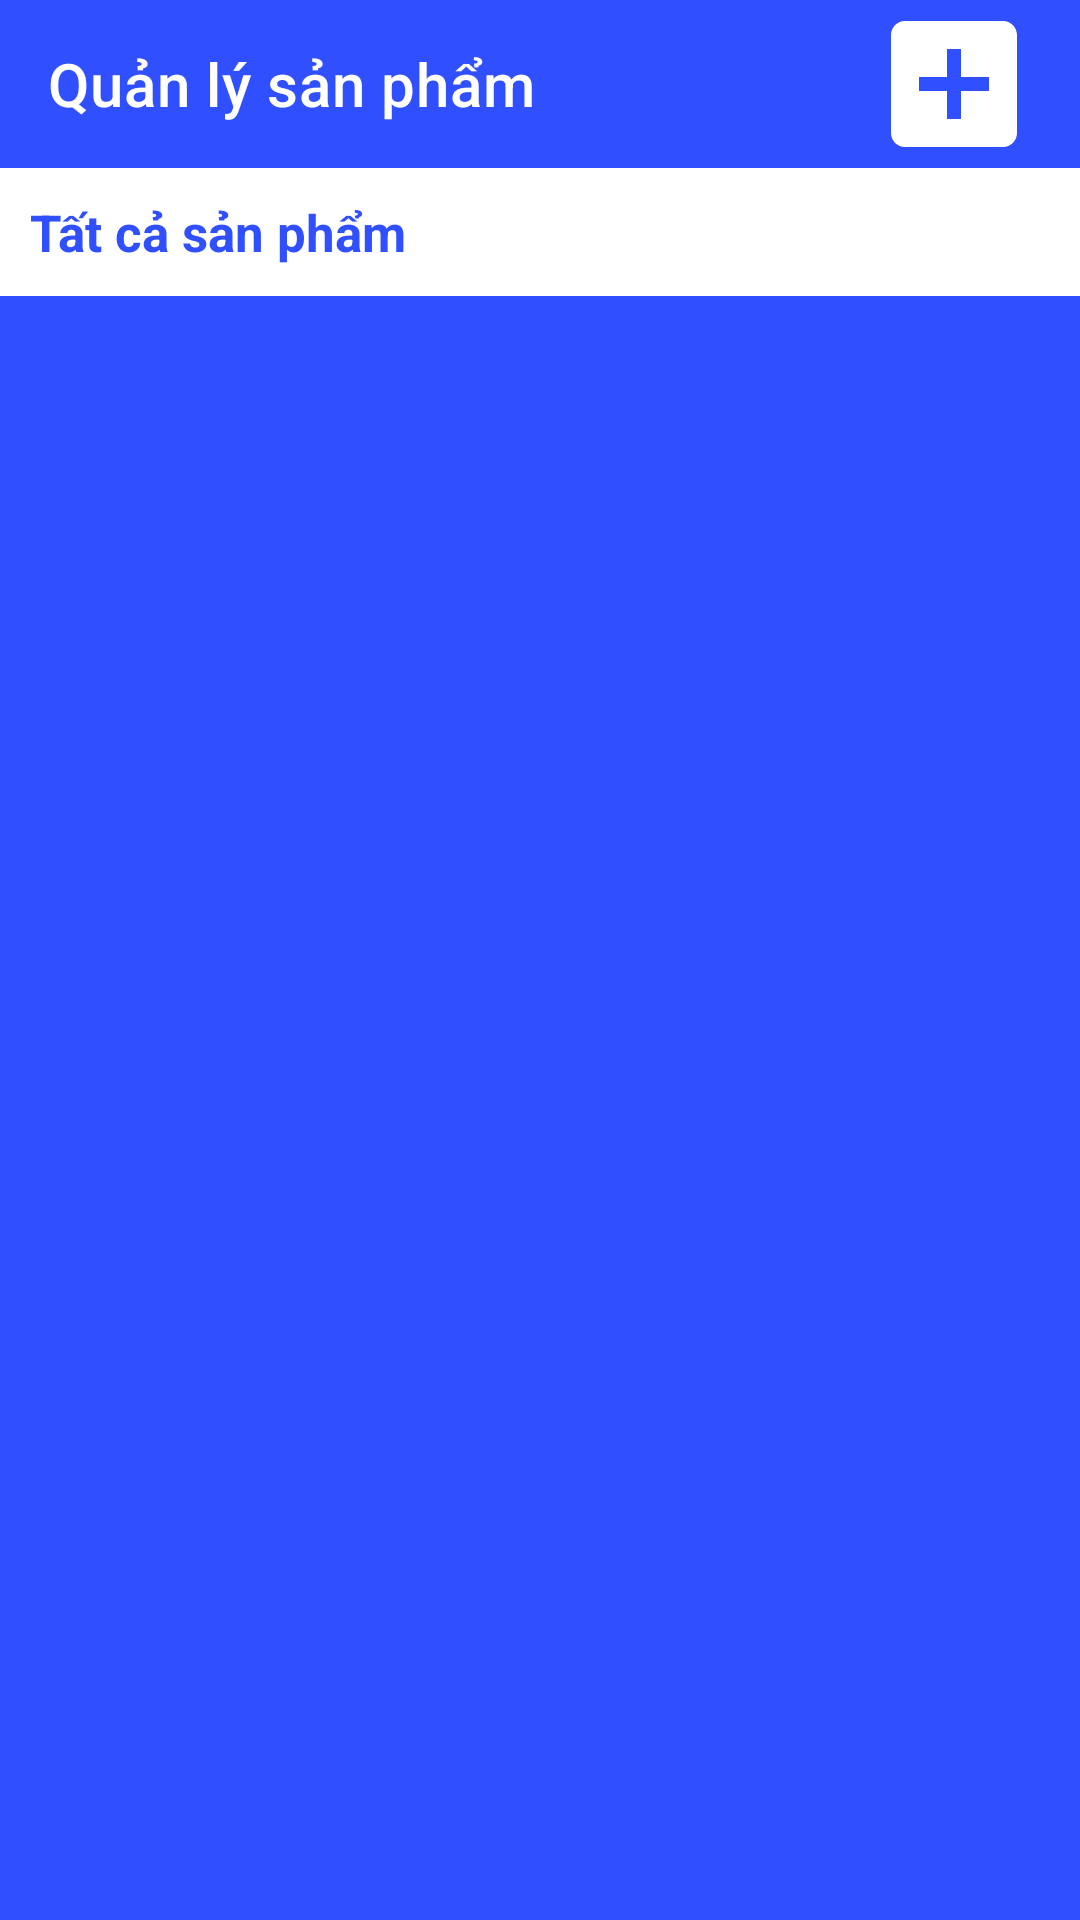

Icons on this 1080 x 1920 Android screen, each with the point to tap as [x,y]:
add: [954,84]
